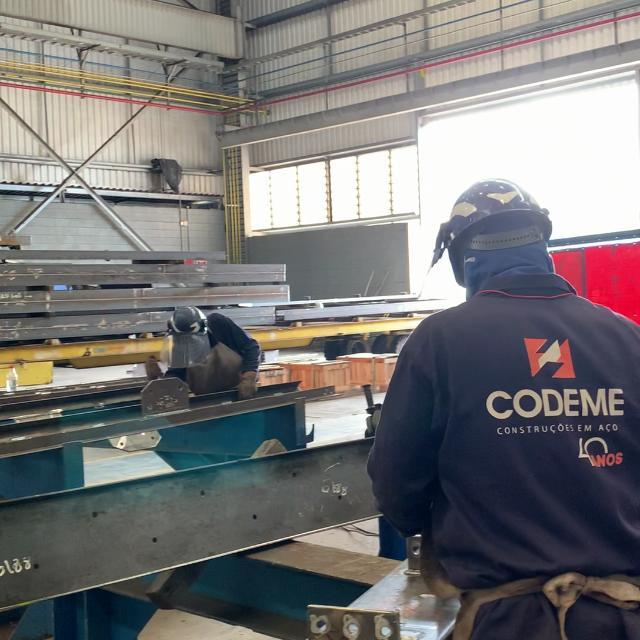eye-glass: (416, 246, 464, 296), (155, 335, 213, 369)
face-shield: (235, 369, 258, 402)
glove: (446, 183, 551, 249), (165, 305, 210, 334)
mask: (367, 178, 640, 639), (158, 304, 261, 402)
